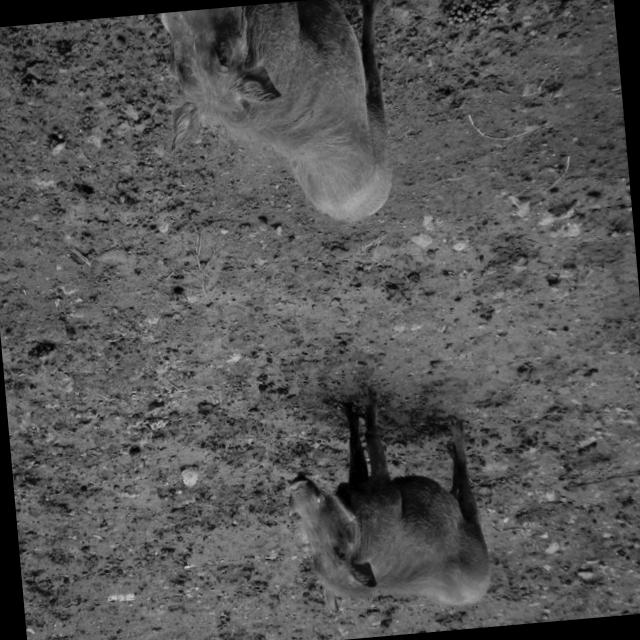pig: (162, 0, 392, 220), (290, 393, 490, 611)
